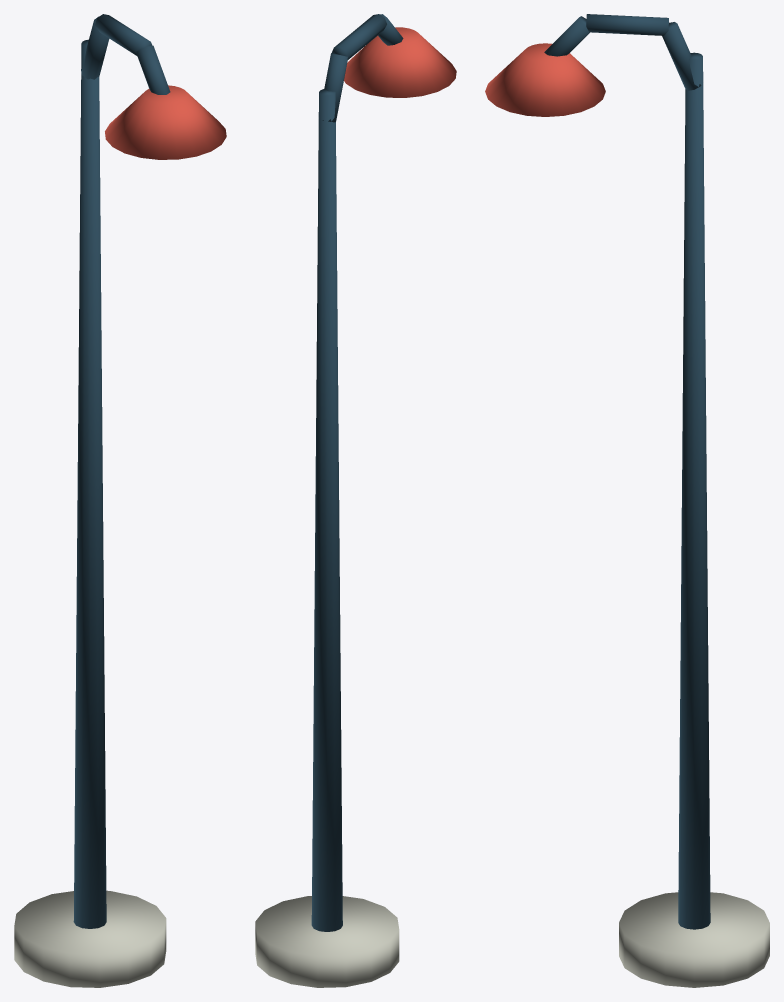
File: lamp.glb
3 renders of one model, left to right at view 1: azimuth 30°, elevation 25°; view 2: azimuth 150°, elevation 25°; view 3: azimuth 270°, elevation 25°, orthographic. The views are drawn at different scales.
Visible parts, largest first — view 1: lamp_Navy, lamp_Concrete, lamp_Paint; view 2: lamp_Navy, lamp_Concrete, lamp_Paint; view 3: lamp_Navy, lamp_Concrete, lamp_Paint.
Boxes of the visible parts, <box> form: lamp_Navy: <box>73,14,170,928</box>; lamp_Concrete: <box>14,890,166,987</box>; lamp_Paint: <box>105,85,226,159</box>; lamp_Navy: <box>311,14,403,931</box>; lamp_Concrete: <box>255,896,399,987</box>; lamp_Paint: <box>344,27,456,97</box>; lamp_Navy: <box>544,14,710,929</box>; lamp_Concrete: <box>619,892,769,987</box>; lamp_Paint: <box>485,43,605,116</box>.
Bounding box in the file's own units: 0.7 × 4.81 × 1.32.
